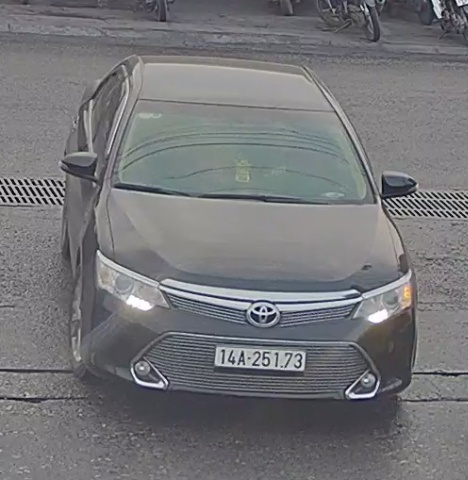vehicle plate: (212, 339, 311, 375)
